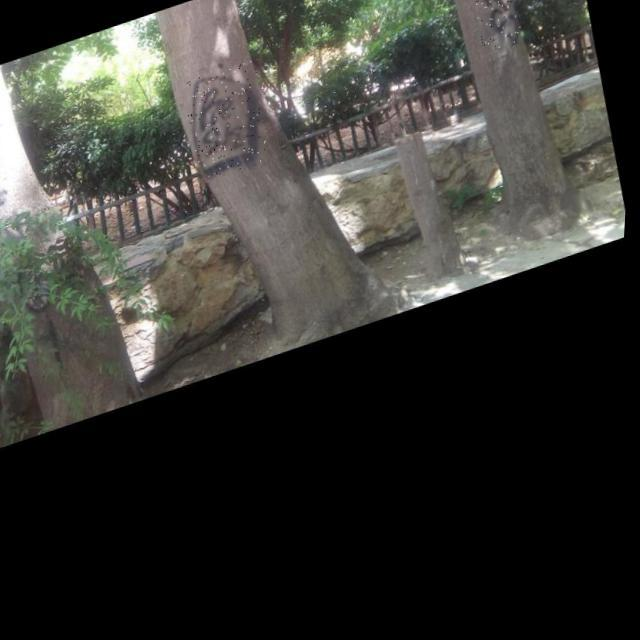-: (177, 63, 276, 190), (463, 0, 529, 67), (0, 67, 15, 219)
